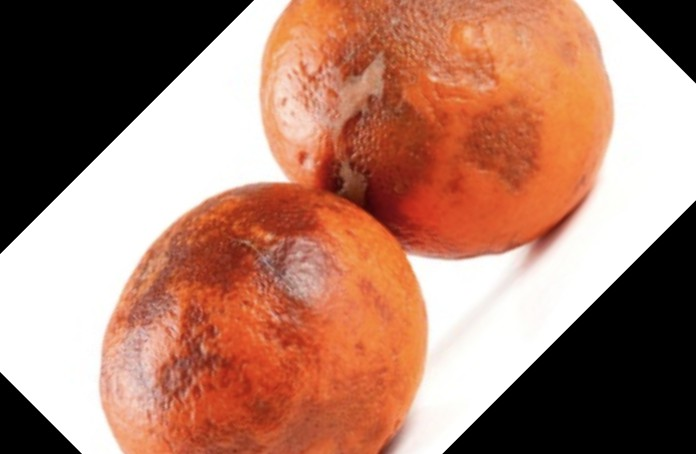rotten_orange: (260, 1, 614, 261), (101, 185, 429, 454)
